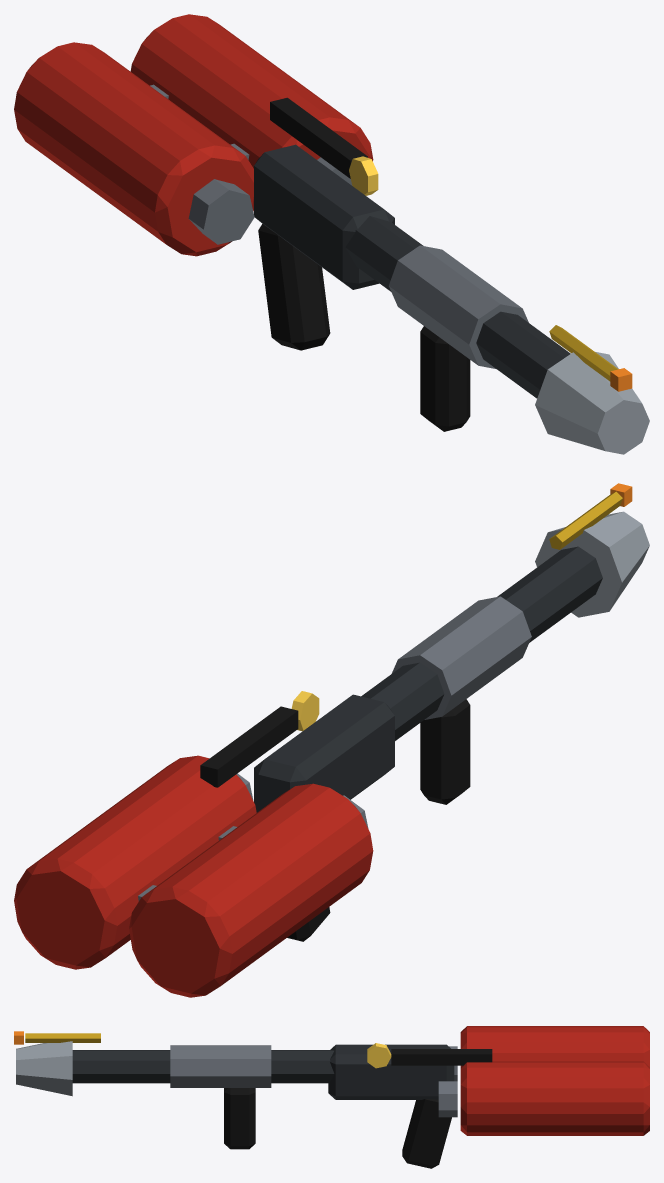
Rendered from flamethrower.glb.
3 renders of one model, top to bottom at view 1: azimuth 30°, elevation 25°; view 2: azimuth 150°, elevation 25°; view 3: azimuth 270°, elevation 25°, orthographic. The views are drawn at different scales.
Parts seen in each view (by area): view 1: wpn_flamethrower; view 2: wpn_flamethrower; view 3: wpn_flamethrower.
Boxes of the visible parts, box(x1,y1,x2,y2) form: wpn_flamethrower: box(14, 14, 649, 454); wpn_flamethrower: box(14, 483, 649, 997); wpn_flamethrower: box(14, 1026, 649, 1168).
Bounding box in the file's own units: 0.213 × 0.1963 × 0.8568.
1 material, 1 textured.
